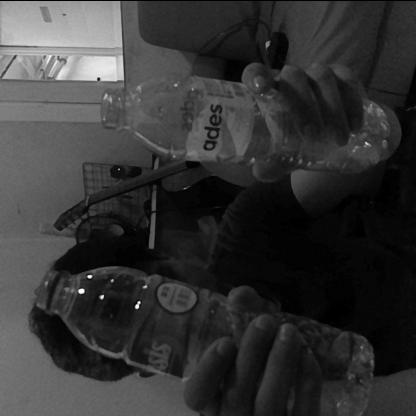plastic_bottles: (32, 267, 376, 416), (103, 70, 392, 179)
